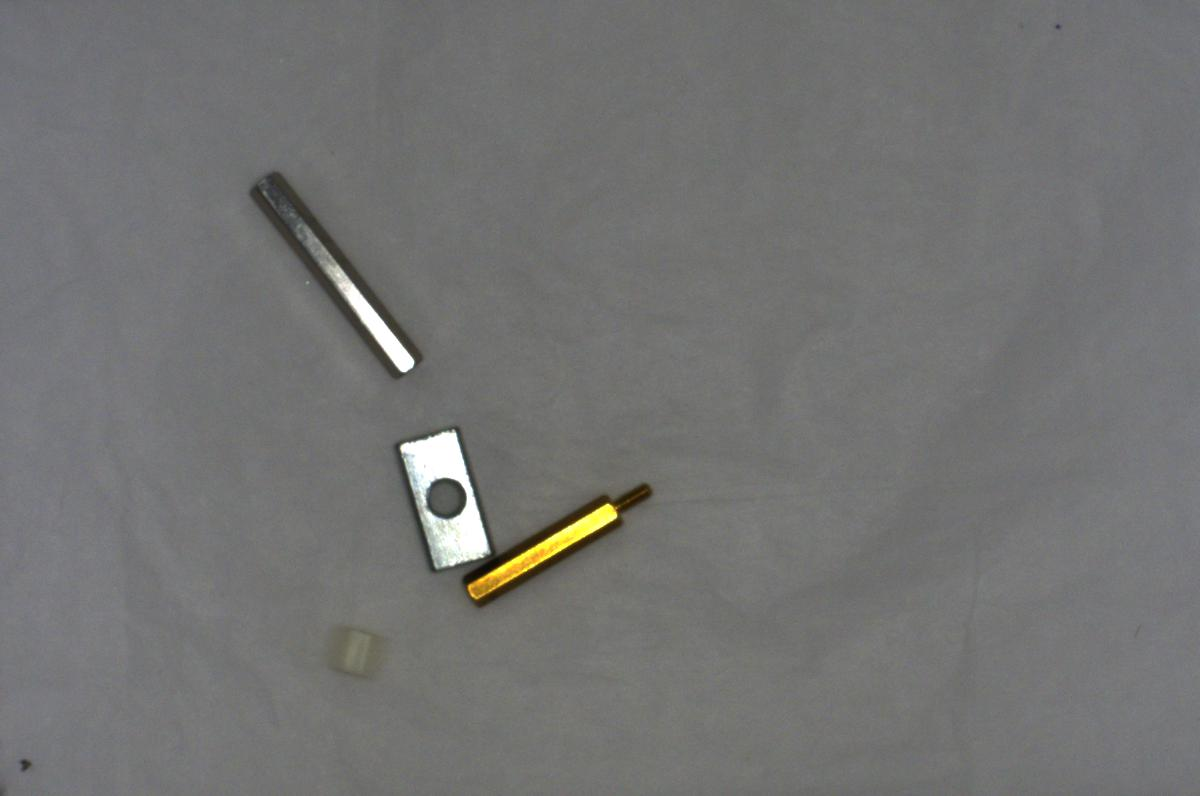Double hexagonal column: (245, 168, 422, 382)
Hexagon pillar: (460, 472, 670, 614)
Plastic cushion pillar: (319, 615, 402, 687)
Rectangular nut: (393, 422, 499, 576)
